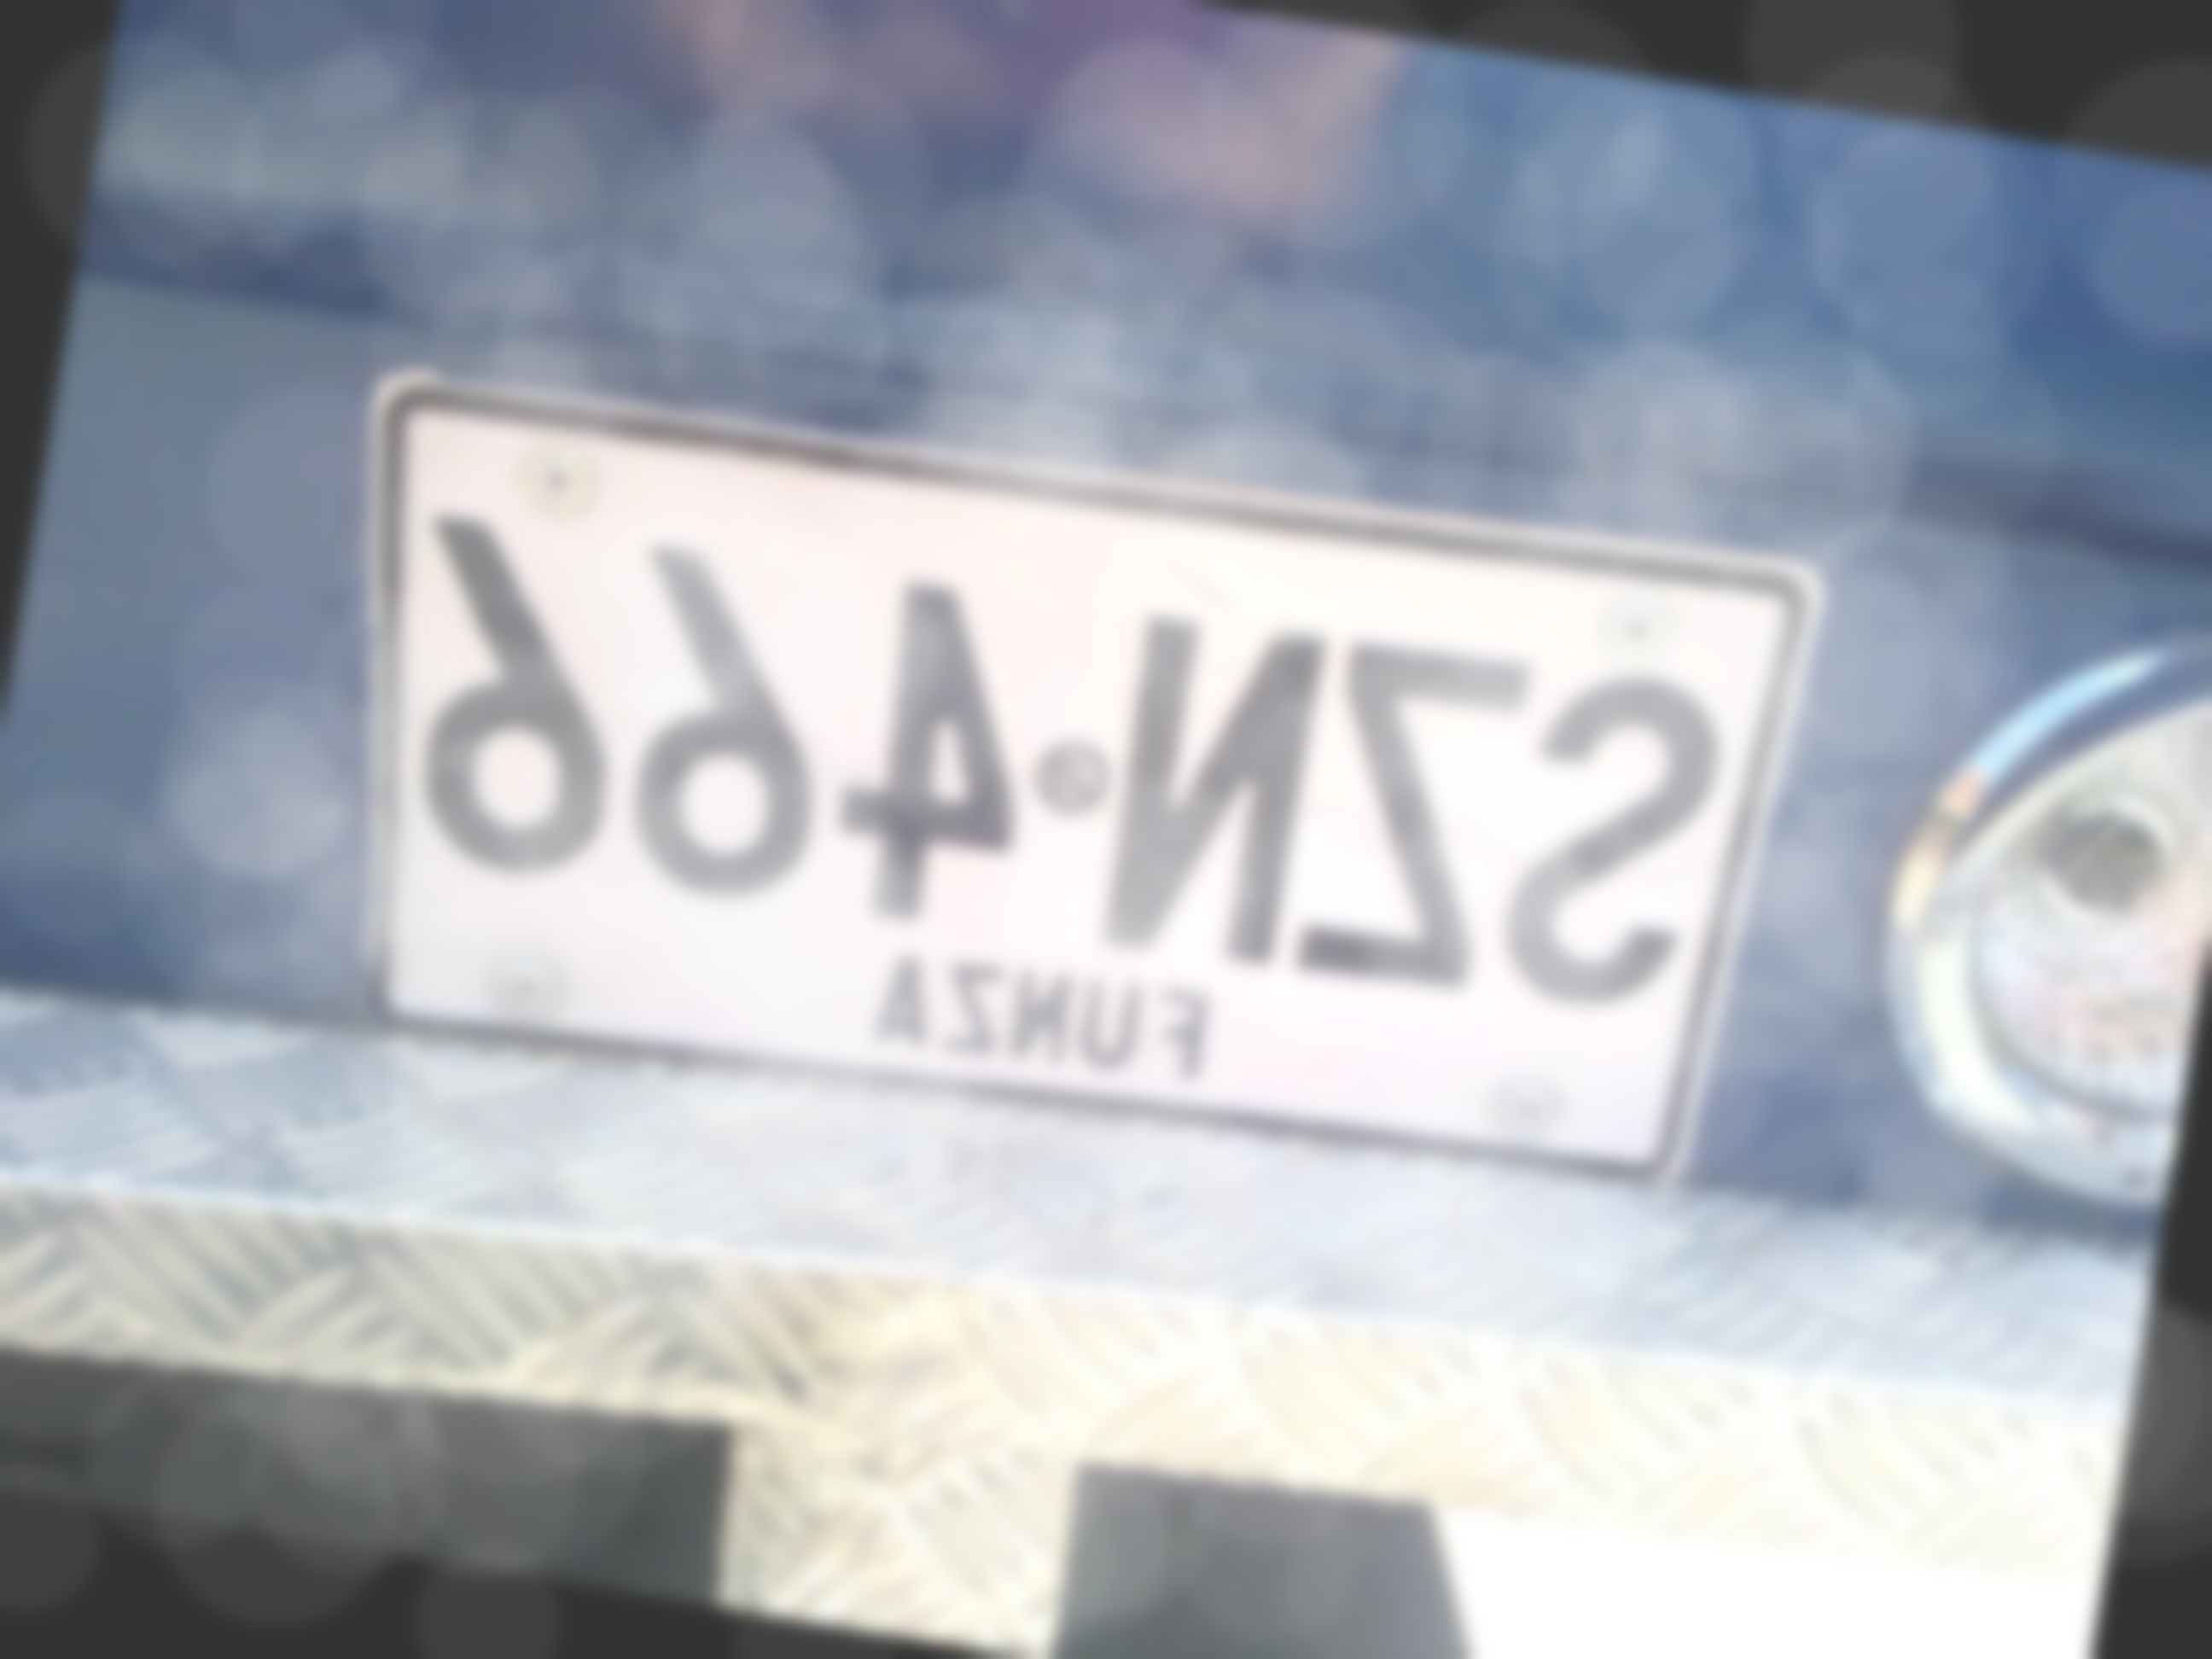placas: (259, 307, 1846, 1269)
